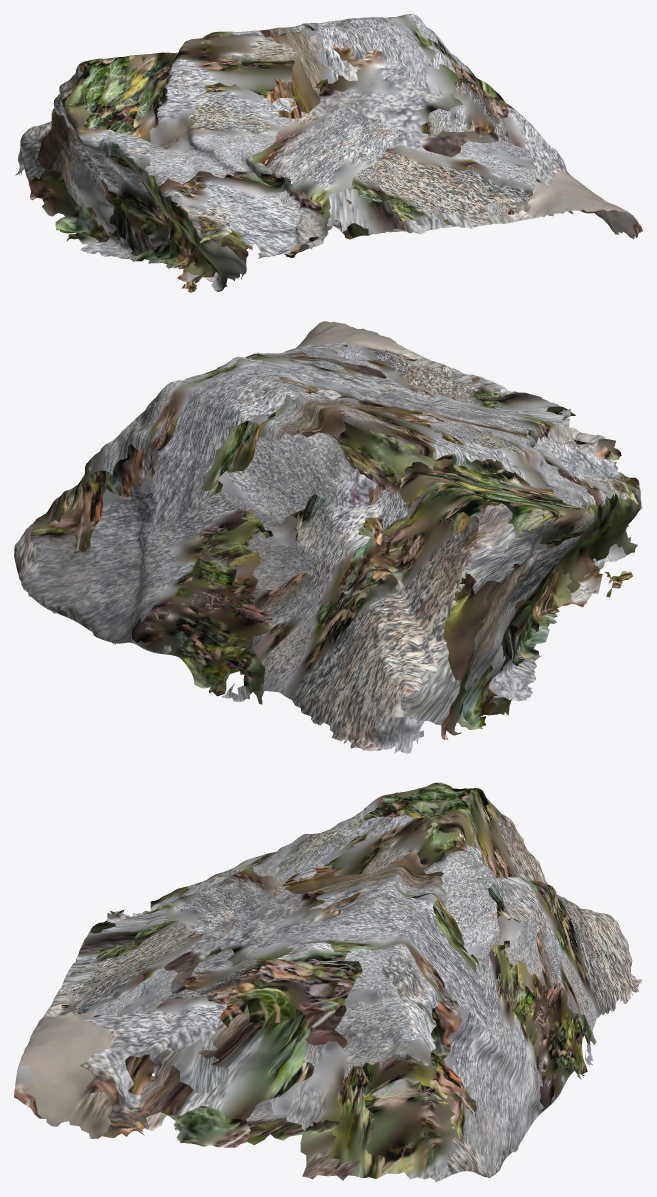
The model's file is cleaned.fbx.
3 views of the same model, one above another, from view 1: azimuth 30°, elevation 25°; view 2: azimuth 150°, elevation 25°; view 3: azimuth 270°, elevation 25° (orthographic). The views are drawn at different scales.
Visible parts, largest first — view 1: nodes[0]; view 2: nodes[0]; view 3: nodes[0].
Part boxes in pixels (x1,y1,x2,y2): nodes[0]: (15, 14, 642, 292); nodes[0]: (14, 321, 642, 753); nodes[0]: (14, 782, 642, 1182).
Size of the model in its own units: 1.29 by 0.5301 by 1.39.
